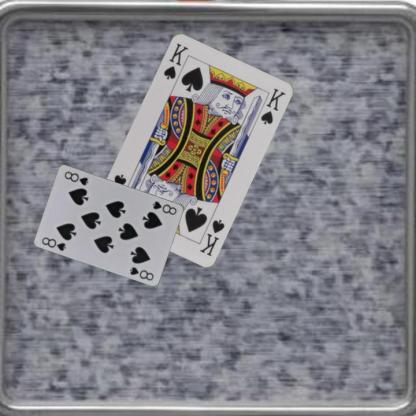8s: (39, 234, 68, 252), (150, 198, 178, 216)
Ks: (160, 40, 190, 81), (197, 216, 226, 257)
